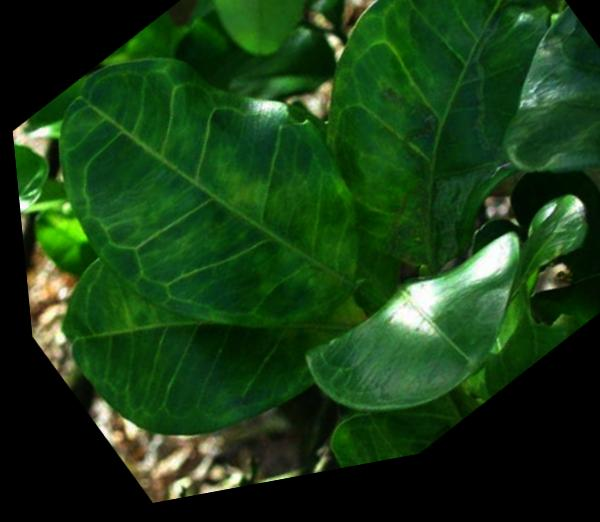Citrus Greening: (2, 0, 410, 439)
